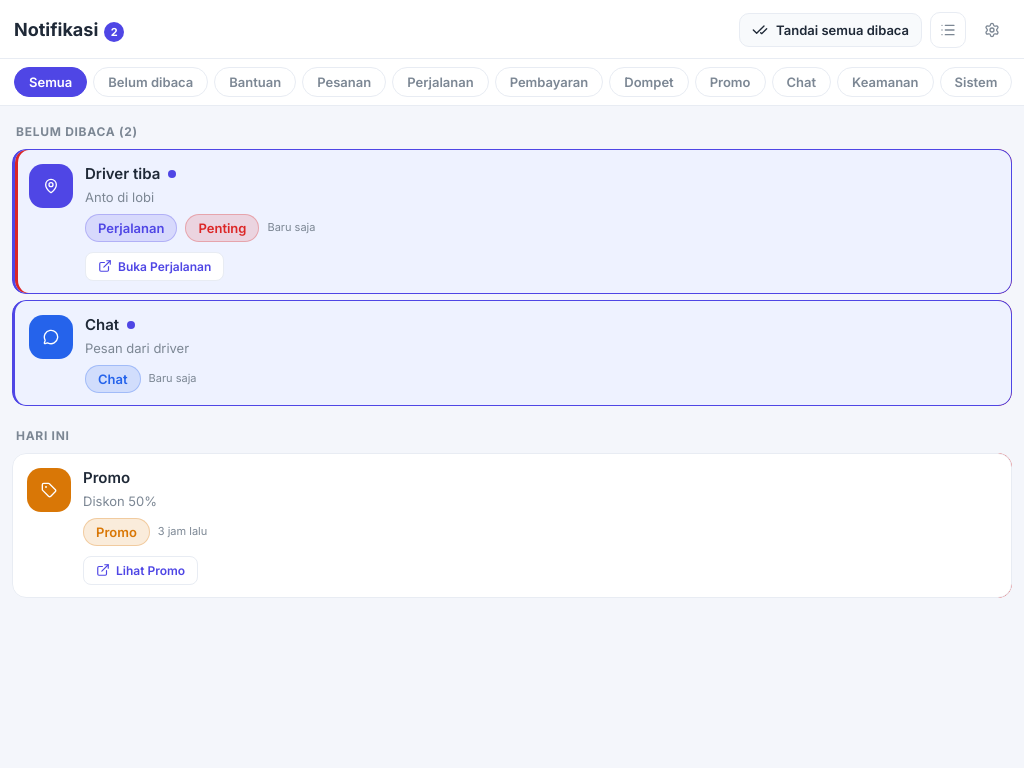
Scenario: NotificationInbox — 6D bulk operations › toggles bulk mode on/off
The width and height of the screenshot is (1024, 768).
expect the text "Driver tiba" is shown: met, box [85, 164, 160, 184]
Click the button named "Mode pilih" at (948, 30), box [930, 12, 966, 48]
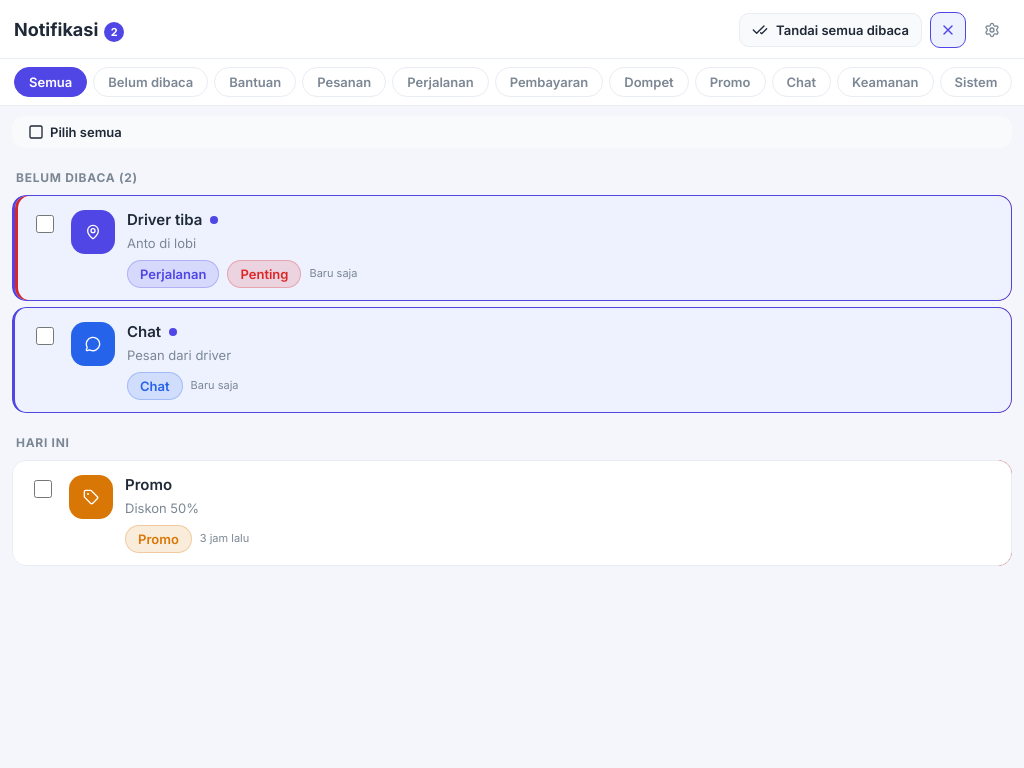
expect the button labelled "Pilih semua" is shown: met, box [18, 120, 132, 144]
Click the button named "Mode pilih" at (948, 30), box [930, 12, 966, 48]
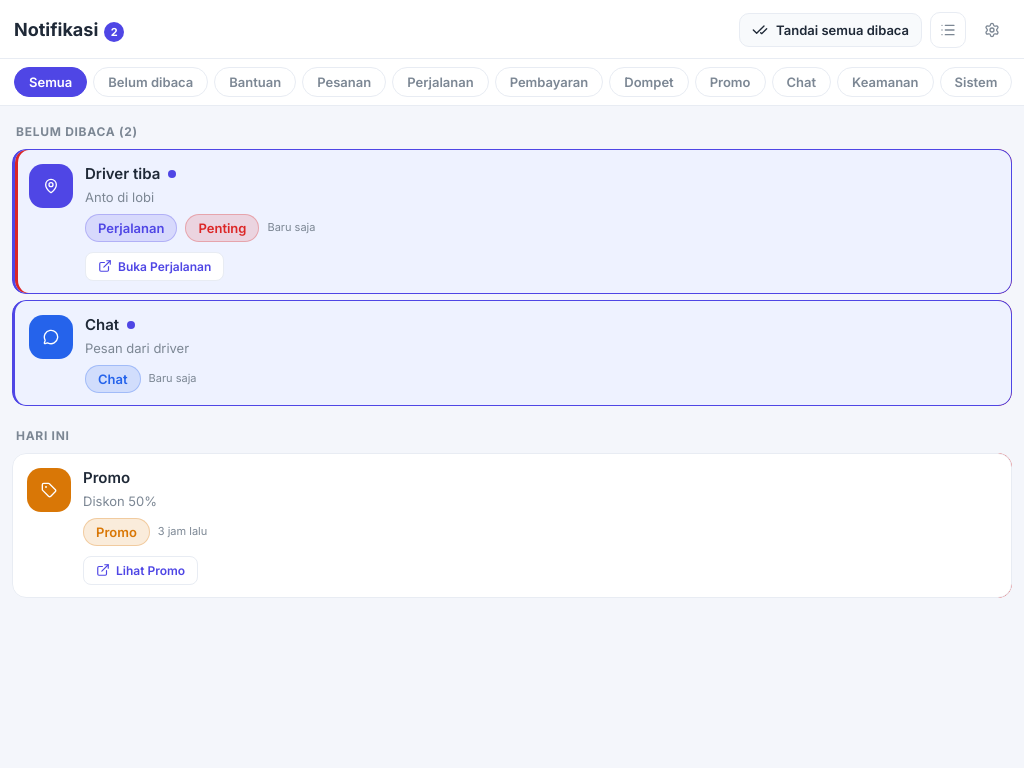
expect the button labelled "Pilih semua" is gone: met
